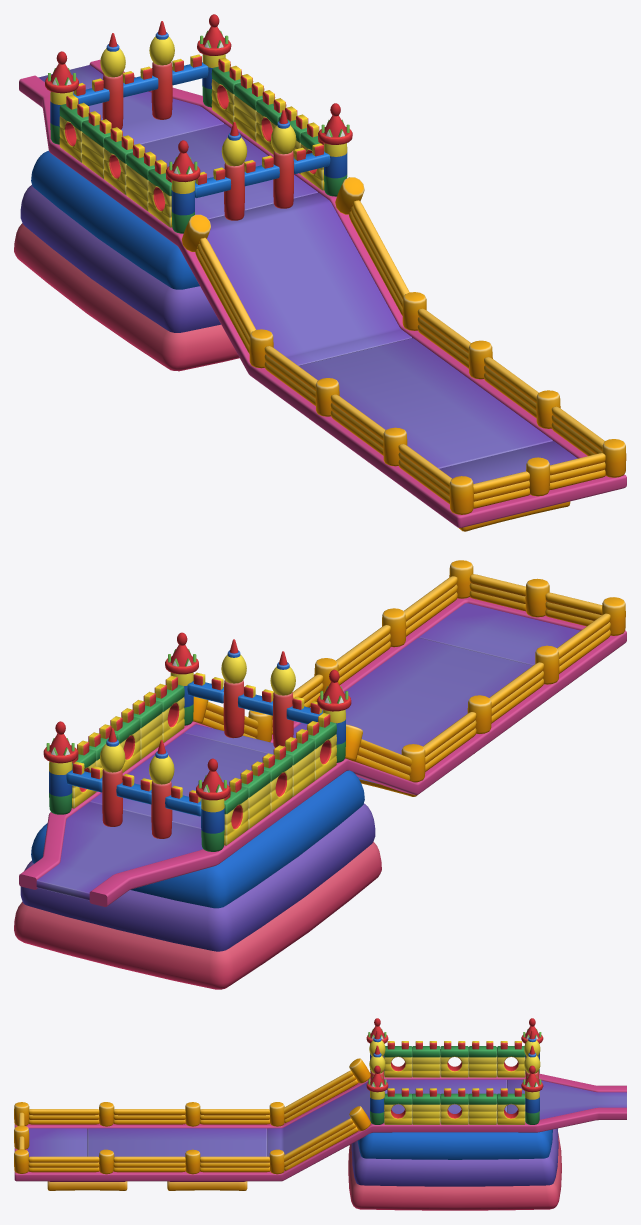
3 views of the same model, one above another, from view 1: azimuth 30°, elevation 25°; view 2: azimuth 150°, elevation 25°; view 3: azimuth 270°, elevation 25° (orthographic). The views are drawn at different scales.
Visible parts, largest first — view 1: Part1; view 2: Part1; view 3: Part1.
Part boxes in pixels (x1,y1,x2,y2): Part1: (14,14,626,531); Part1: (14,560,626,989); Part1: (14,1018,626,1210).
Bounding box in the file's own units: 11.66 × 10.85 × 42.84.
1 material, 1 textured.
